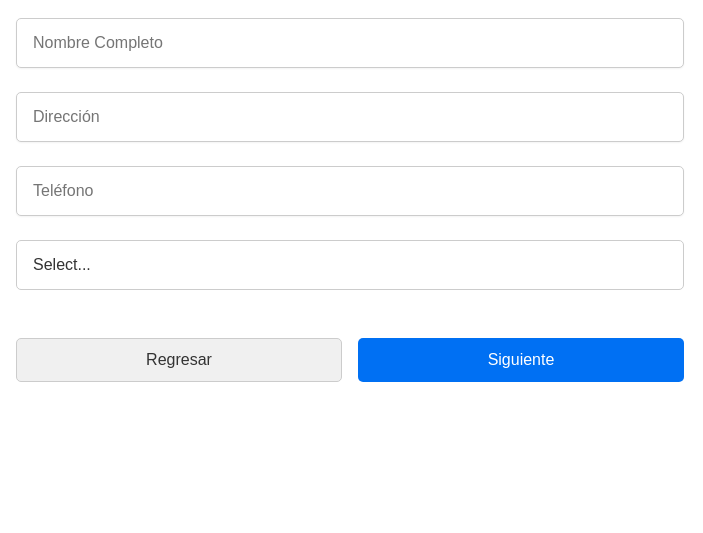
Test: ContactForm › muestra errores si se intenta enviar vacío
// envío sin completar campos
Click the button "Siguiente".
click(521, 360)  # box [358, 338, 684, 382]
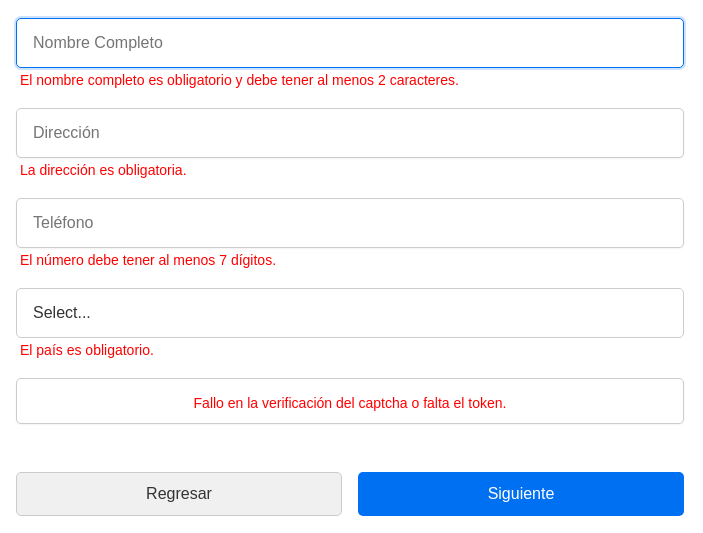
Result: the text "El nombre completo es obligatorio" is shown at [20, 72, 459, 88]
Result: the text "La dirección es obligatoria." is shown at [20, 162, 186, 178]
Result: the text "El número debe tener al menos 7 dígitos." is shown at [20, 252, 276, 268]
